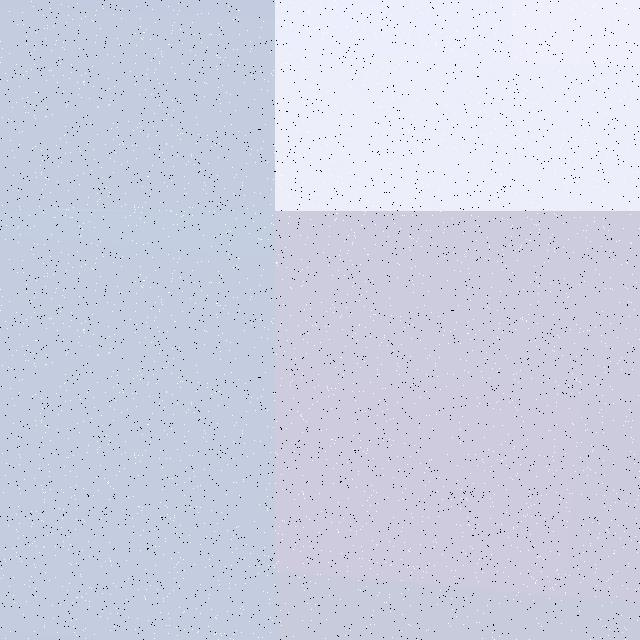drone: (275, 0, 640, 211), (0, 0, 275, 211)
